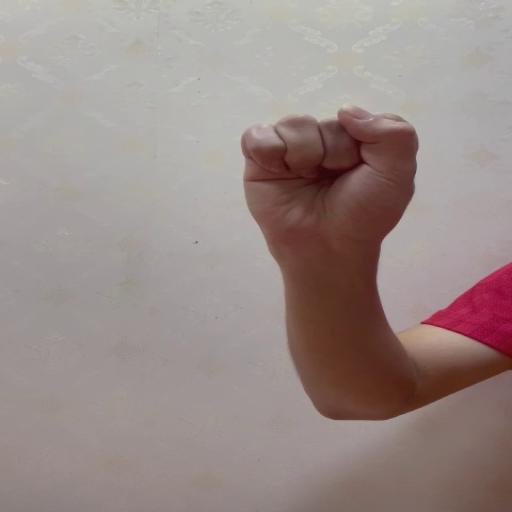fist: (239, 101, 419, 244)
